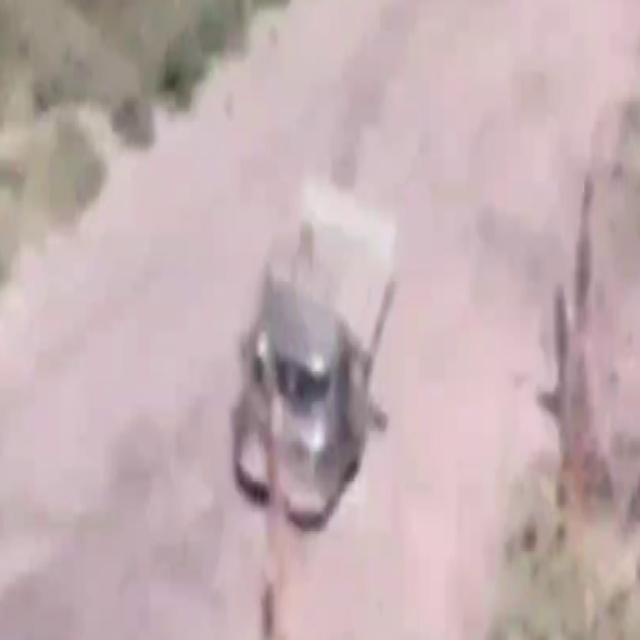CAR: (226, 171, 400, 513)
